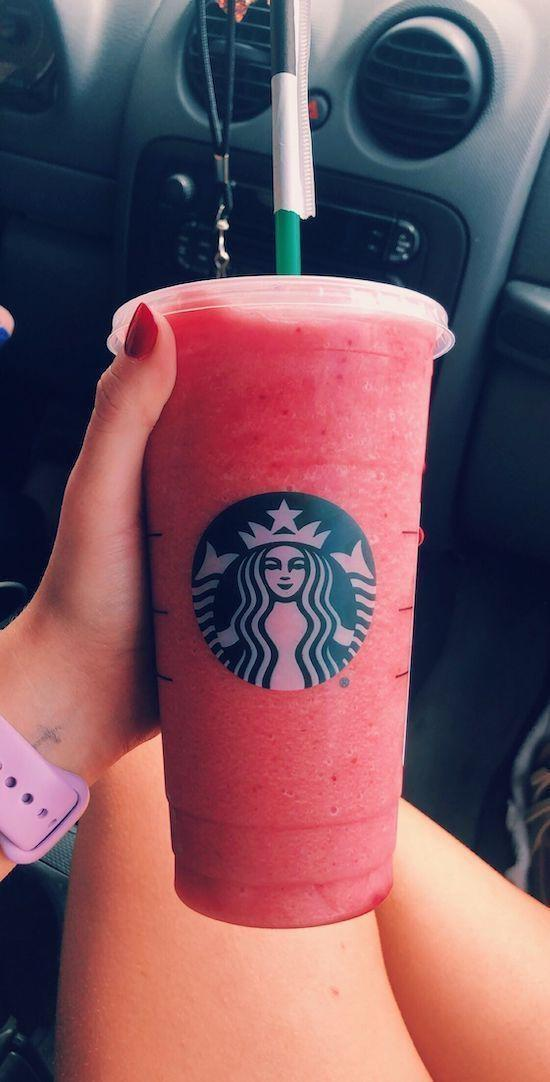cup-disposable: (120, 275, 453, 933)
